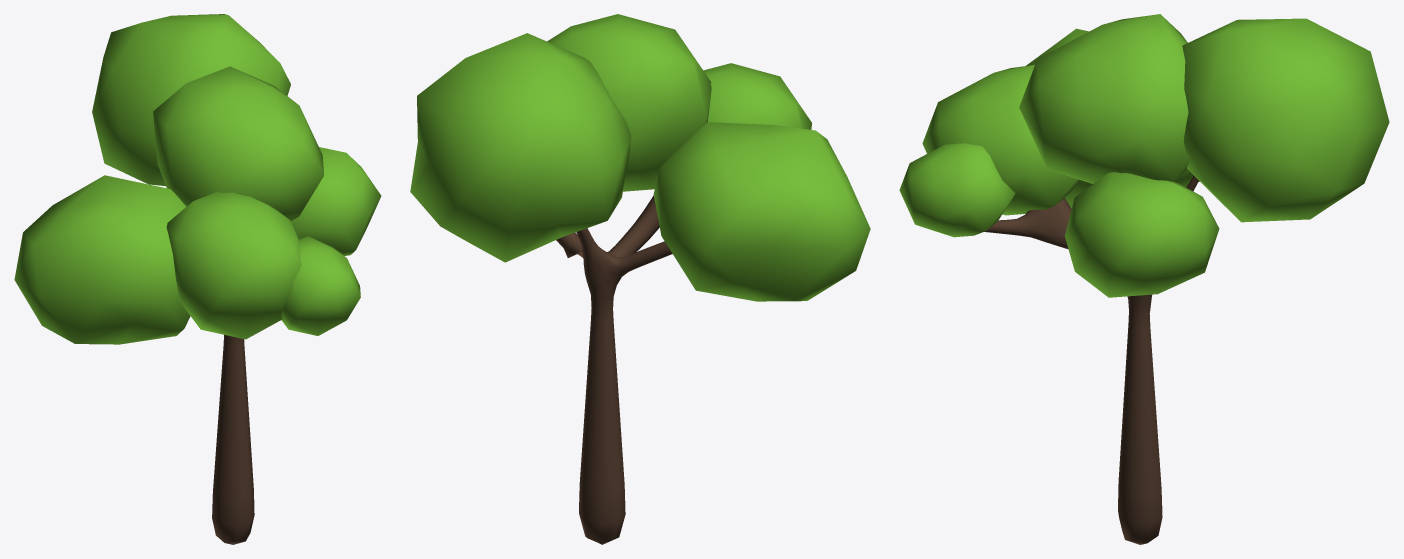
File: tree3.fbx
3 views of the same model, side by side, from view 1: azimuth 30°, elevation 25°; view 2: azimuth 150°, elevation 25°; view 3: azimuth 270°, elevation 25° (orthographic). The views are drawn at different scales.
Visible parts, largest first — view 1: Icosphere.003; view 2: Icosphere.003; view 3: Icosphere.003.
Boxes of the visible parts, x1,y1,x2,y2 form: Icosphere.003: [14, 14, 381, 544]; Icosphere.003: [410, 14, 870, 544]; Icosphere.003: [899, 14, 1389, 544].
Bounding box in the file's own units: 5.2 × 6.66 × 5.6.
